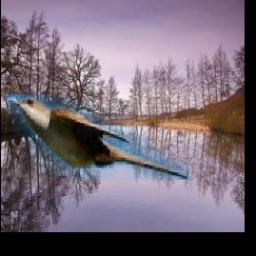Cuckoo: (7, 94, 190, 180)
